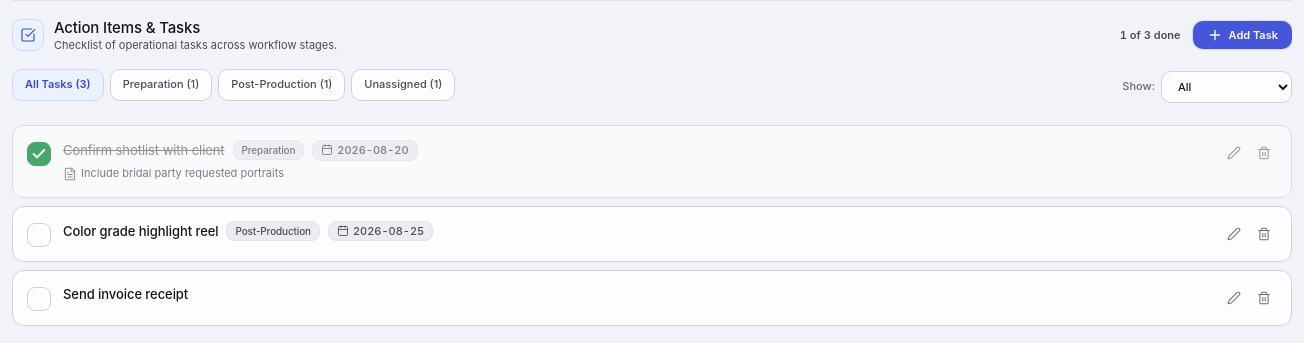
Scenario: ProjectTasksSection (WORKFLOW-REQ-007 / WORKFLOW-REQ-008 / WORKFLOW-REQ-009) › filters tasks by stage pill click
The width and height of the screenshot is (1304, 343).
Expected: the text "Confirm shotlist with client" is shown, [63,141,224,160]
Click 'Post-Production' stage tab filter
Click the button "Post-Production (1)" at coordinates (282, 85), box [218,69,345,101]
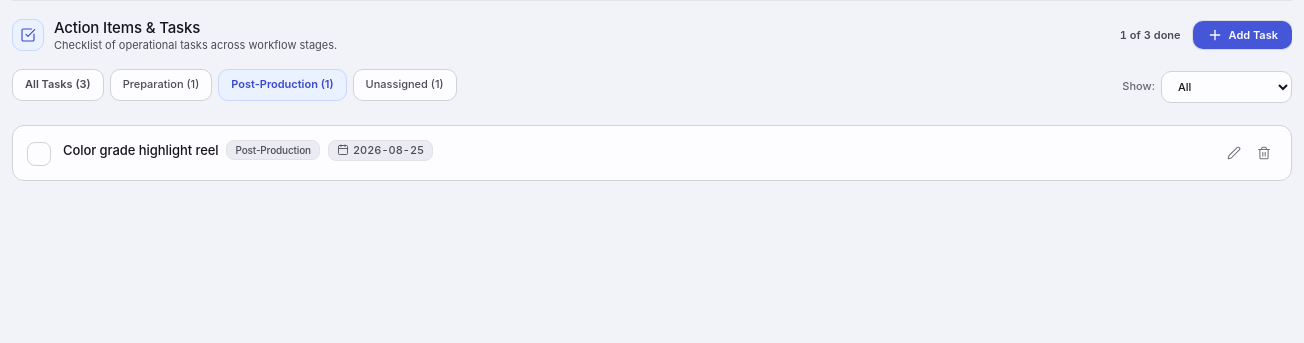
Expected: the text "Color grade highlight reel" is shown, [63,141,218,160]
Now the text "Confirm shotlist with client" is gone
